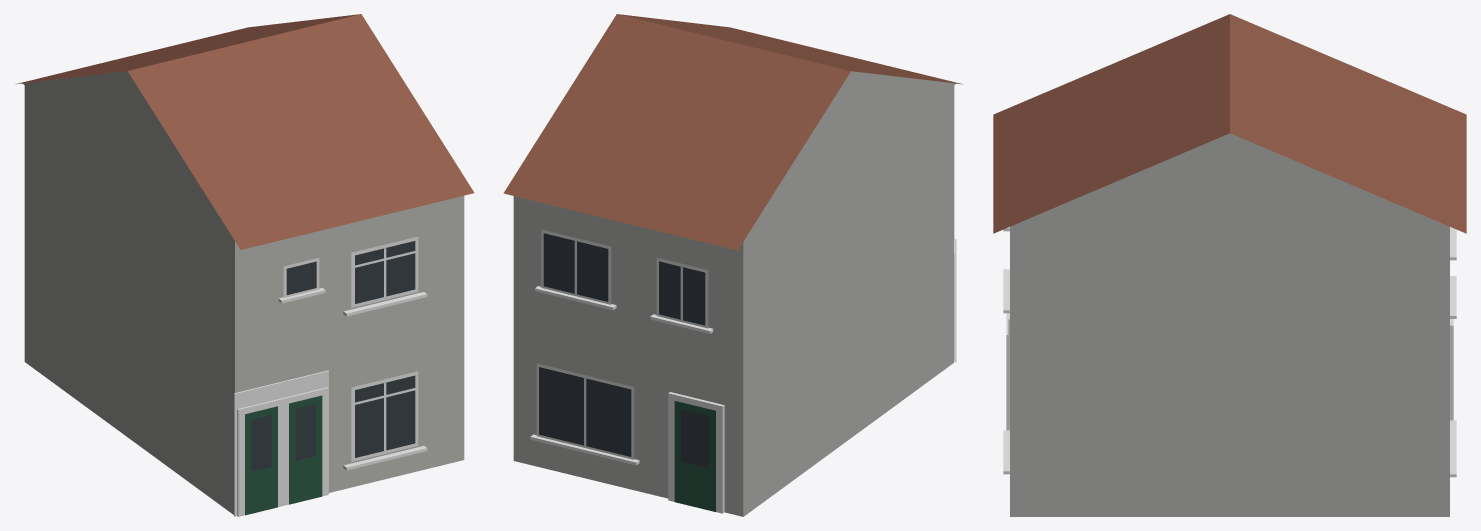
The model's file is nd-td-pomona__grey__2__gable__long__solid__f0d0__mirror.glb.
The picture shows the model from 3 angles, left to right: view 1: azimuth 30°, elevation 25°; view 2: azimuth 150°, elevation 25°; view 3: azimuth 270°, elevation 25°; orthographic projection. The views are drawn at different scales.
Parts seen in each view (by area): view 1: nd-td-pomona__grey__2__gable__long__solid__f0d0__mirror; view 2: nd-td-pomona__grey__2__gable__long__solid__f0d0__mirror; view 3: nd-td-pomona__grey__2__gable__long__solid__f0d0__mirror.
Boxes of the visible parts, x1,y1,x2,y2 form: nd-td-pomona__grey__2__gable__long__solid__f0d0__mirror: [15, 14, 474, 516]; nd-td-pomona__grey__2__gable__long__solid__f0d0__mirror: [503, 14, 962, 516]; nd-td-pomona__grey__2__gable__long__solid__f0d0__mirror: [993, 14, 1466, 516].
Bounding box in the file's own units: 5.08 × 7.64 × 8.51.
